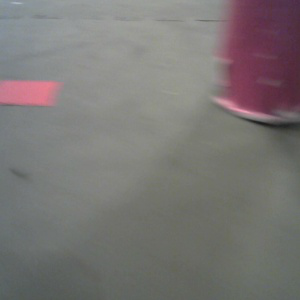right: (210, 1, 300, 130)
